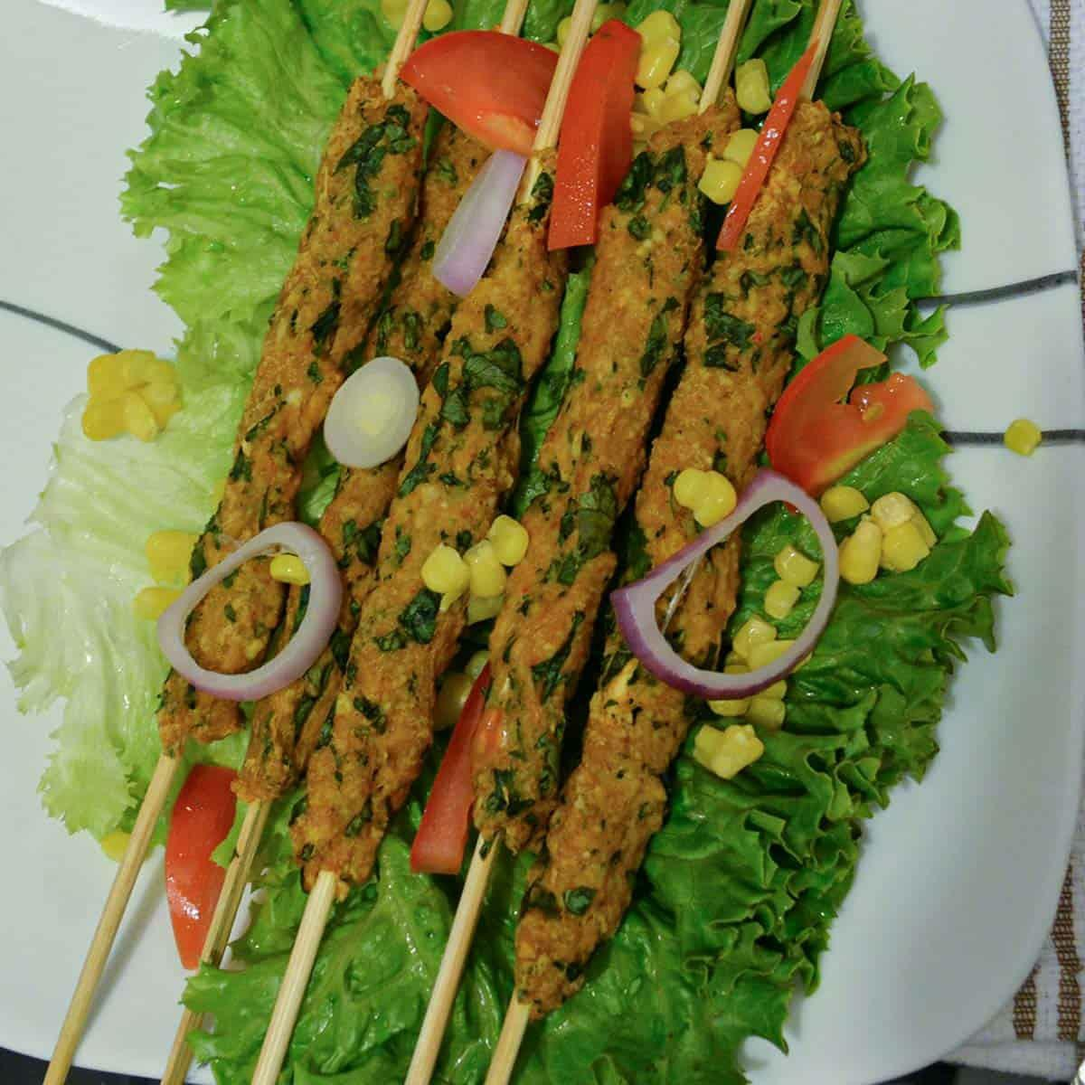Kebab: (511, 100, 863, 1030), (297, 157, 575, 903), (468, 104, 743, 856), (229, 112, 515, 805), (157, 74, 430, 760)
